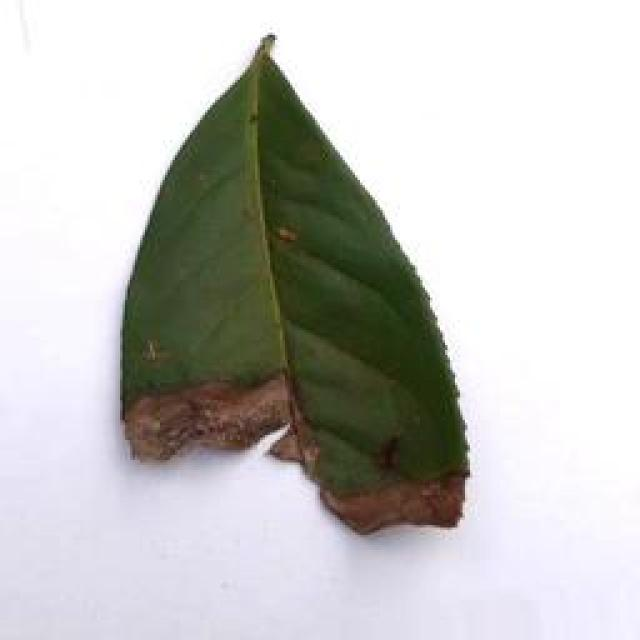Brown Blight: (109, 20, 476, 537)
